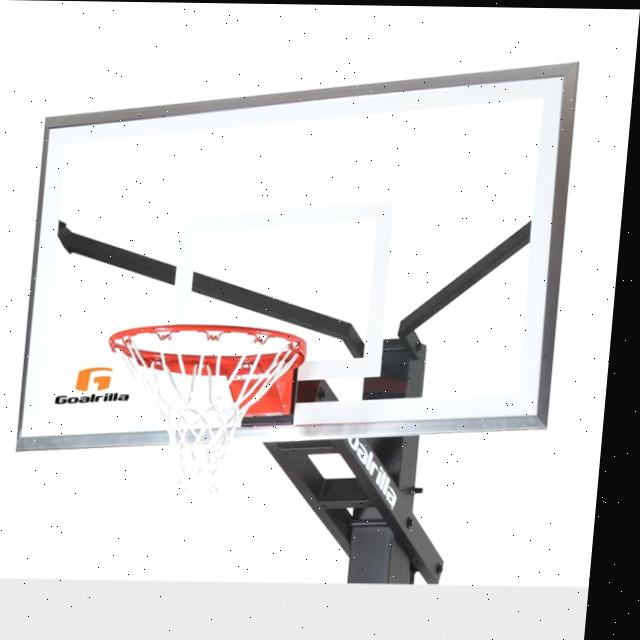hoop: (95, 323, 309, 499)
